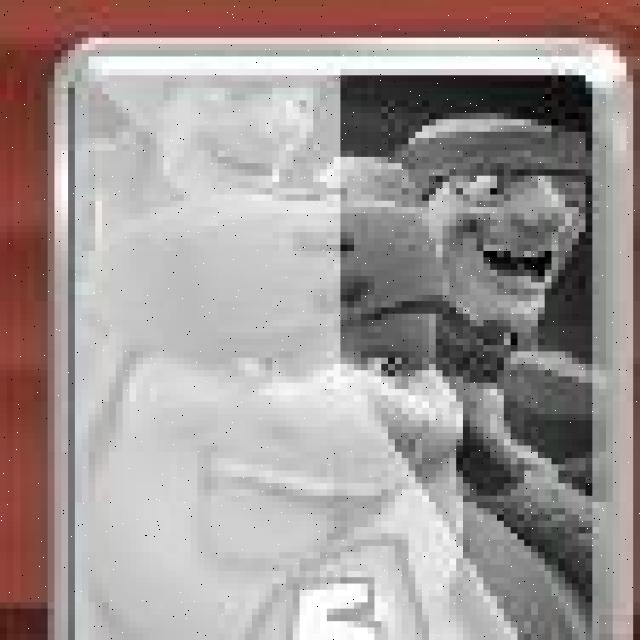Goblin_Giant: (55, 36, 635, 640)
